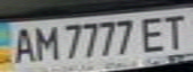7: (57, 20, 81, 60), (115, 16, 139, 56), (78, 19, 100, 57), (97, 18, 118, 56)
A: (6, 24, 39, 64)
E: (136, 12, 172, 53)
M: (30, 23, 60, 62)
T: (157, 11, 193, 50)
